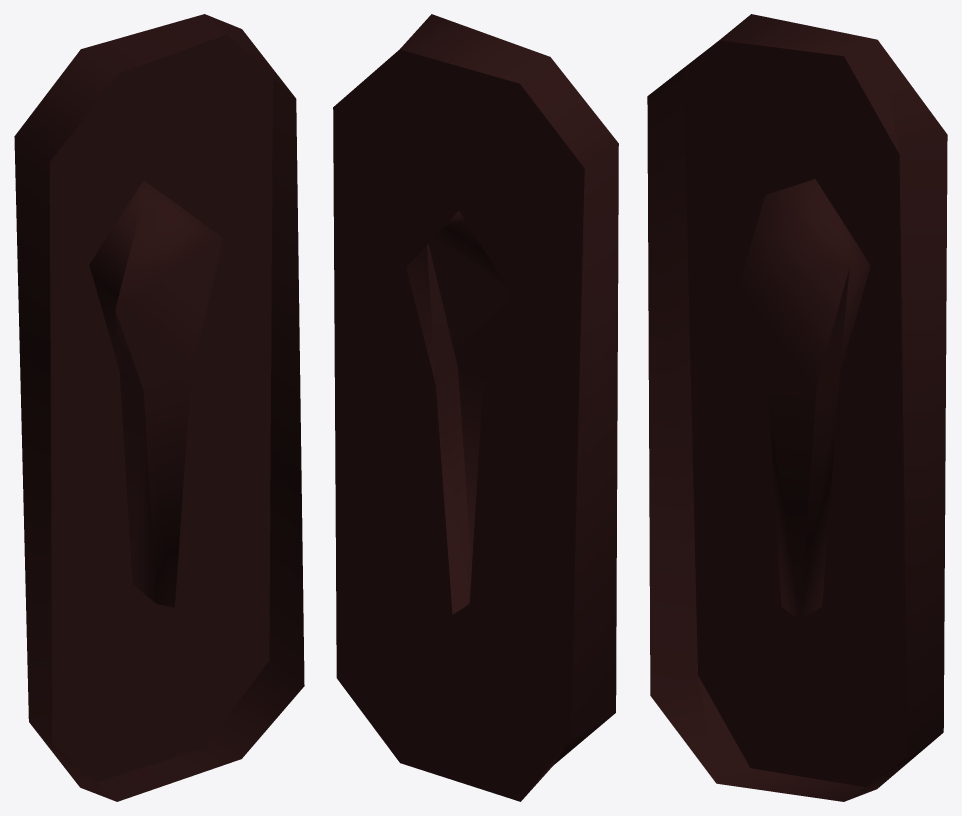
The model's file is keyhole.fbx.
3 views of the same model, side by side, from view 1: azimuth 30°, elevation 25°; view 2: azimuth 150°, elevation 25°; view 3: azimuth 330°, elevation 25° (orthographic). The views are drawn at different scales.
Parts seen in each view (by area): view 1: Keyhole; view 2: Keyhole; view 3: Keyhole.
Boxes of the visible parts, x1,y1,x2,y2 form: Keyhole: [14, 14, 304, 801]; Keyhole: [333, 14, 618, 801]; Keyhole: [647, 14, 947, 801].
Bounding box in the file's own units: 9.42 × 26.22 × 2.22.
